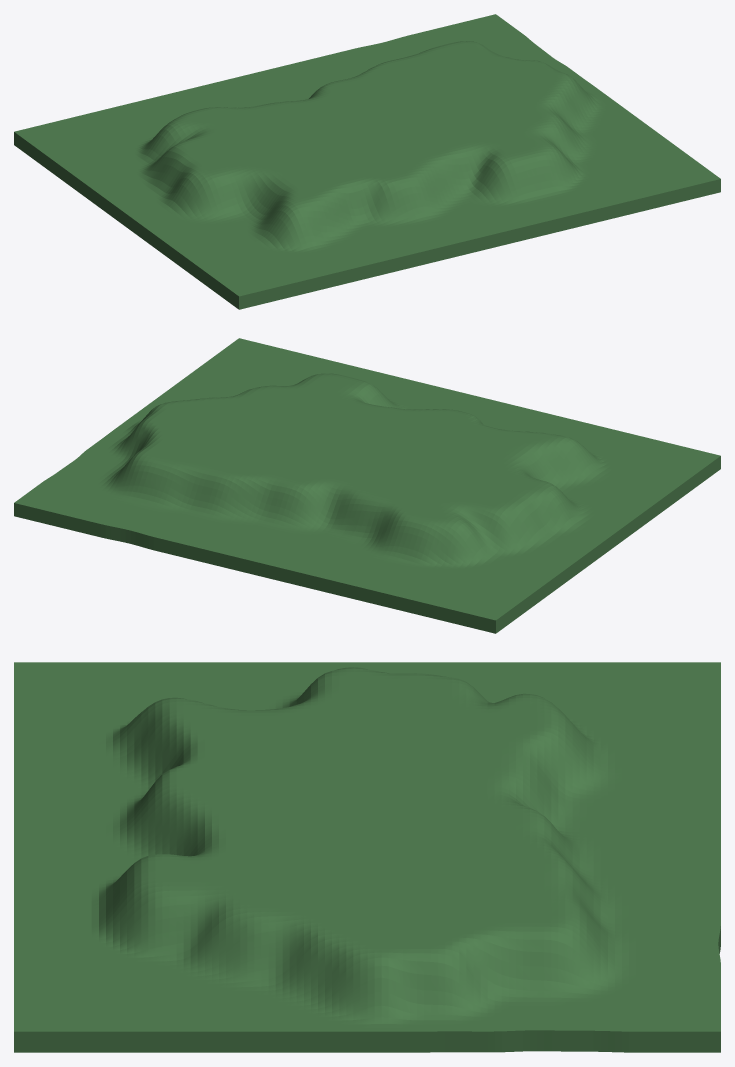
The model's file is field_v1.fbx.
3 renders of one model, top to bottom at view 1: azimuth 30°, elevation 25°; view 2: azimuth 150°, elevation 25°; view 3: azimuth 270°, elevation 25°, orthographic. The views are drawn at different scales.
Parts seen in each view (by area): view 1: Plane001; view 2: Plane001; view 3: Plane001.
Boxes of the visible parts, x1,y1,x2,y2 form: Plane001: (14, 14, 720, 309); Plane001: (14, 338, 720, 633); Plane001: (14, 662, 720, 1052).
Bounding box in the file's own units: 216 × 175 × 18.21.
